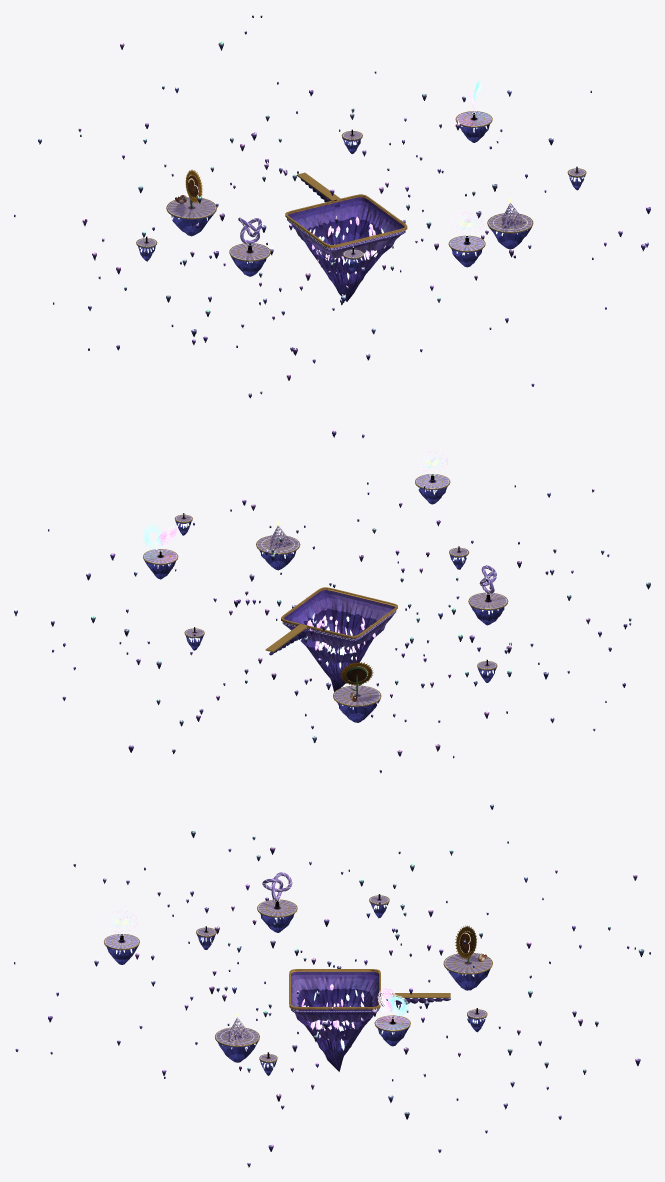
File: imp_cosmos.glb
The picture shows the model from 3 angles, top to bottom: view 1: azimuth 30°, elevation 25°; view 2: azimuth 150°, elevation 25°; view 3: azimuth 270°, elevation 25°; orthographic projection. The views are drawn at different scales.
Visible parts, largest first — view 1: ic_base, ic_debris, ii_fib, ii_sierp, ii_knot, ii_hopf, ii_lorenz, ic_debris_glow, ic_base_glow; view 2: ic_base, ic_debris, ii_fib, ii_sierp, ii_knot, ii_lorenz, ii_hopf, ic_base_glow, ic_debris_glow, ic_fib, ic_lorenz, ic_corr; view 3: ic_base, ic_debris, ii_fib, ii_sierp, ii_knot, ii_lorenz, ii_hopf, ic_debris_glow, ic_base_glow, ic_fib, ic_lorenz, ic_corr.
Boxes of the visible parts, x1,y1,x2,y2 form: ic_base: (285, 194, 407, 301); ic_debris: (14, 15, 650, 398); ii_fib: (166, 197, 216, 236); ii_sierp: (487, 213, 533, 249); ii_knot: (229, 243, 270, 276); ii_hopf: (448, 235, 485, 267); ii_lorenz: (455, 111, 492, 142); ic_debris_glow: (14, 15, 648, 394); ic_base_glow: (289, 216, 405, 279); ic_base: (281, 587, 397, 691); ic_debris: (14, 431, 650, 773); ii_fib: (333, 685, 381, 722); ii_sierp: (256, 535, 300, 570); ii_knot: (468, 592, 508, 625); ii_lorenz: (143, 549, 178, 579); ii_hopf: (415, 474, 450, 504); ic_base_glow: (282, 611, 394, 668); ic_debris_glow: (14, 428, 647, 770); ic_fib: (340, 662, 373, 695); ic_lorenz: (143, 524, 176, 549); ic_corr: (265, 624, 307, 655); ic_base: (289, 969, 380, 1071); ic_debris: (14, 804, 650, 1167); ii_fib: (443, 953, 492, 990); ii_sierp: (215, 1027, 259, 1062); ii_knot: (257, 899, 297, 932); ii_lorenz: (374, 1015, 410, 1046); ii_hopf: (104, 934, 139, 964); ic_debris_glow: (14, 803, 649, 1162); ic_base_glow: (293, 984, 378, 1050); ic_fib: (455, 925, 476, 963); ic_lorenz: (377, 987, 408, 1015); ic_corr: (378, 993, 450, 1006).
Size of the model in its own units: 285 by 81.75 by 287.
